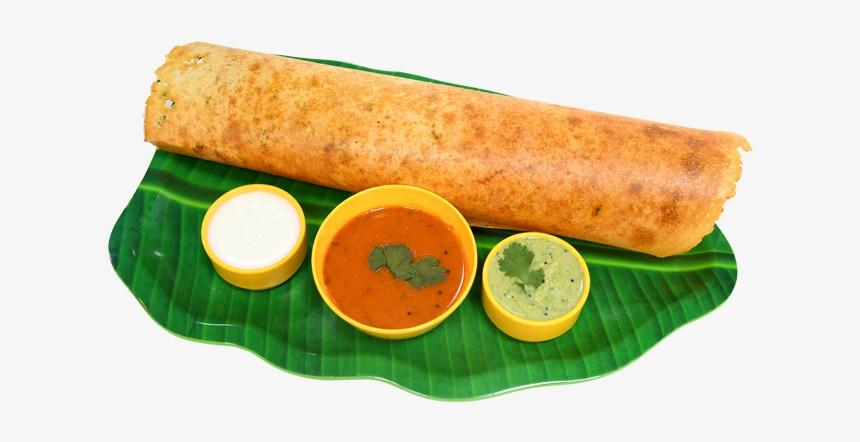CoconutChutney: (488, 238, 583, 321)
Dosa: (145, 42, 752, 258)
